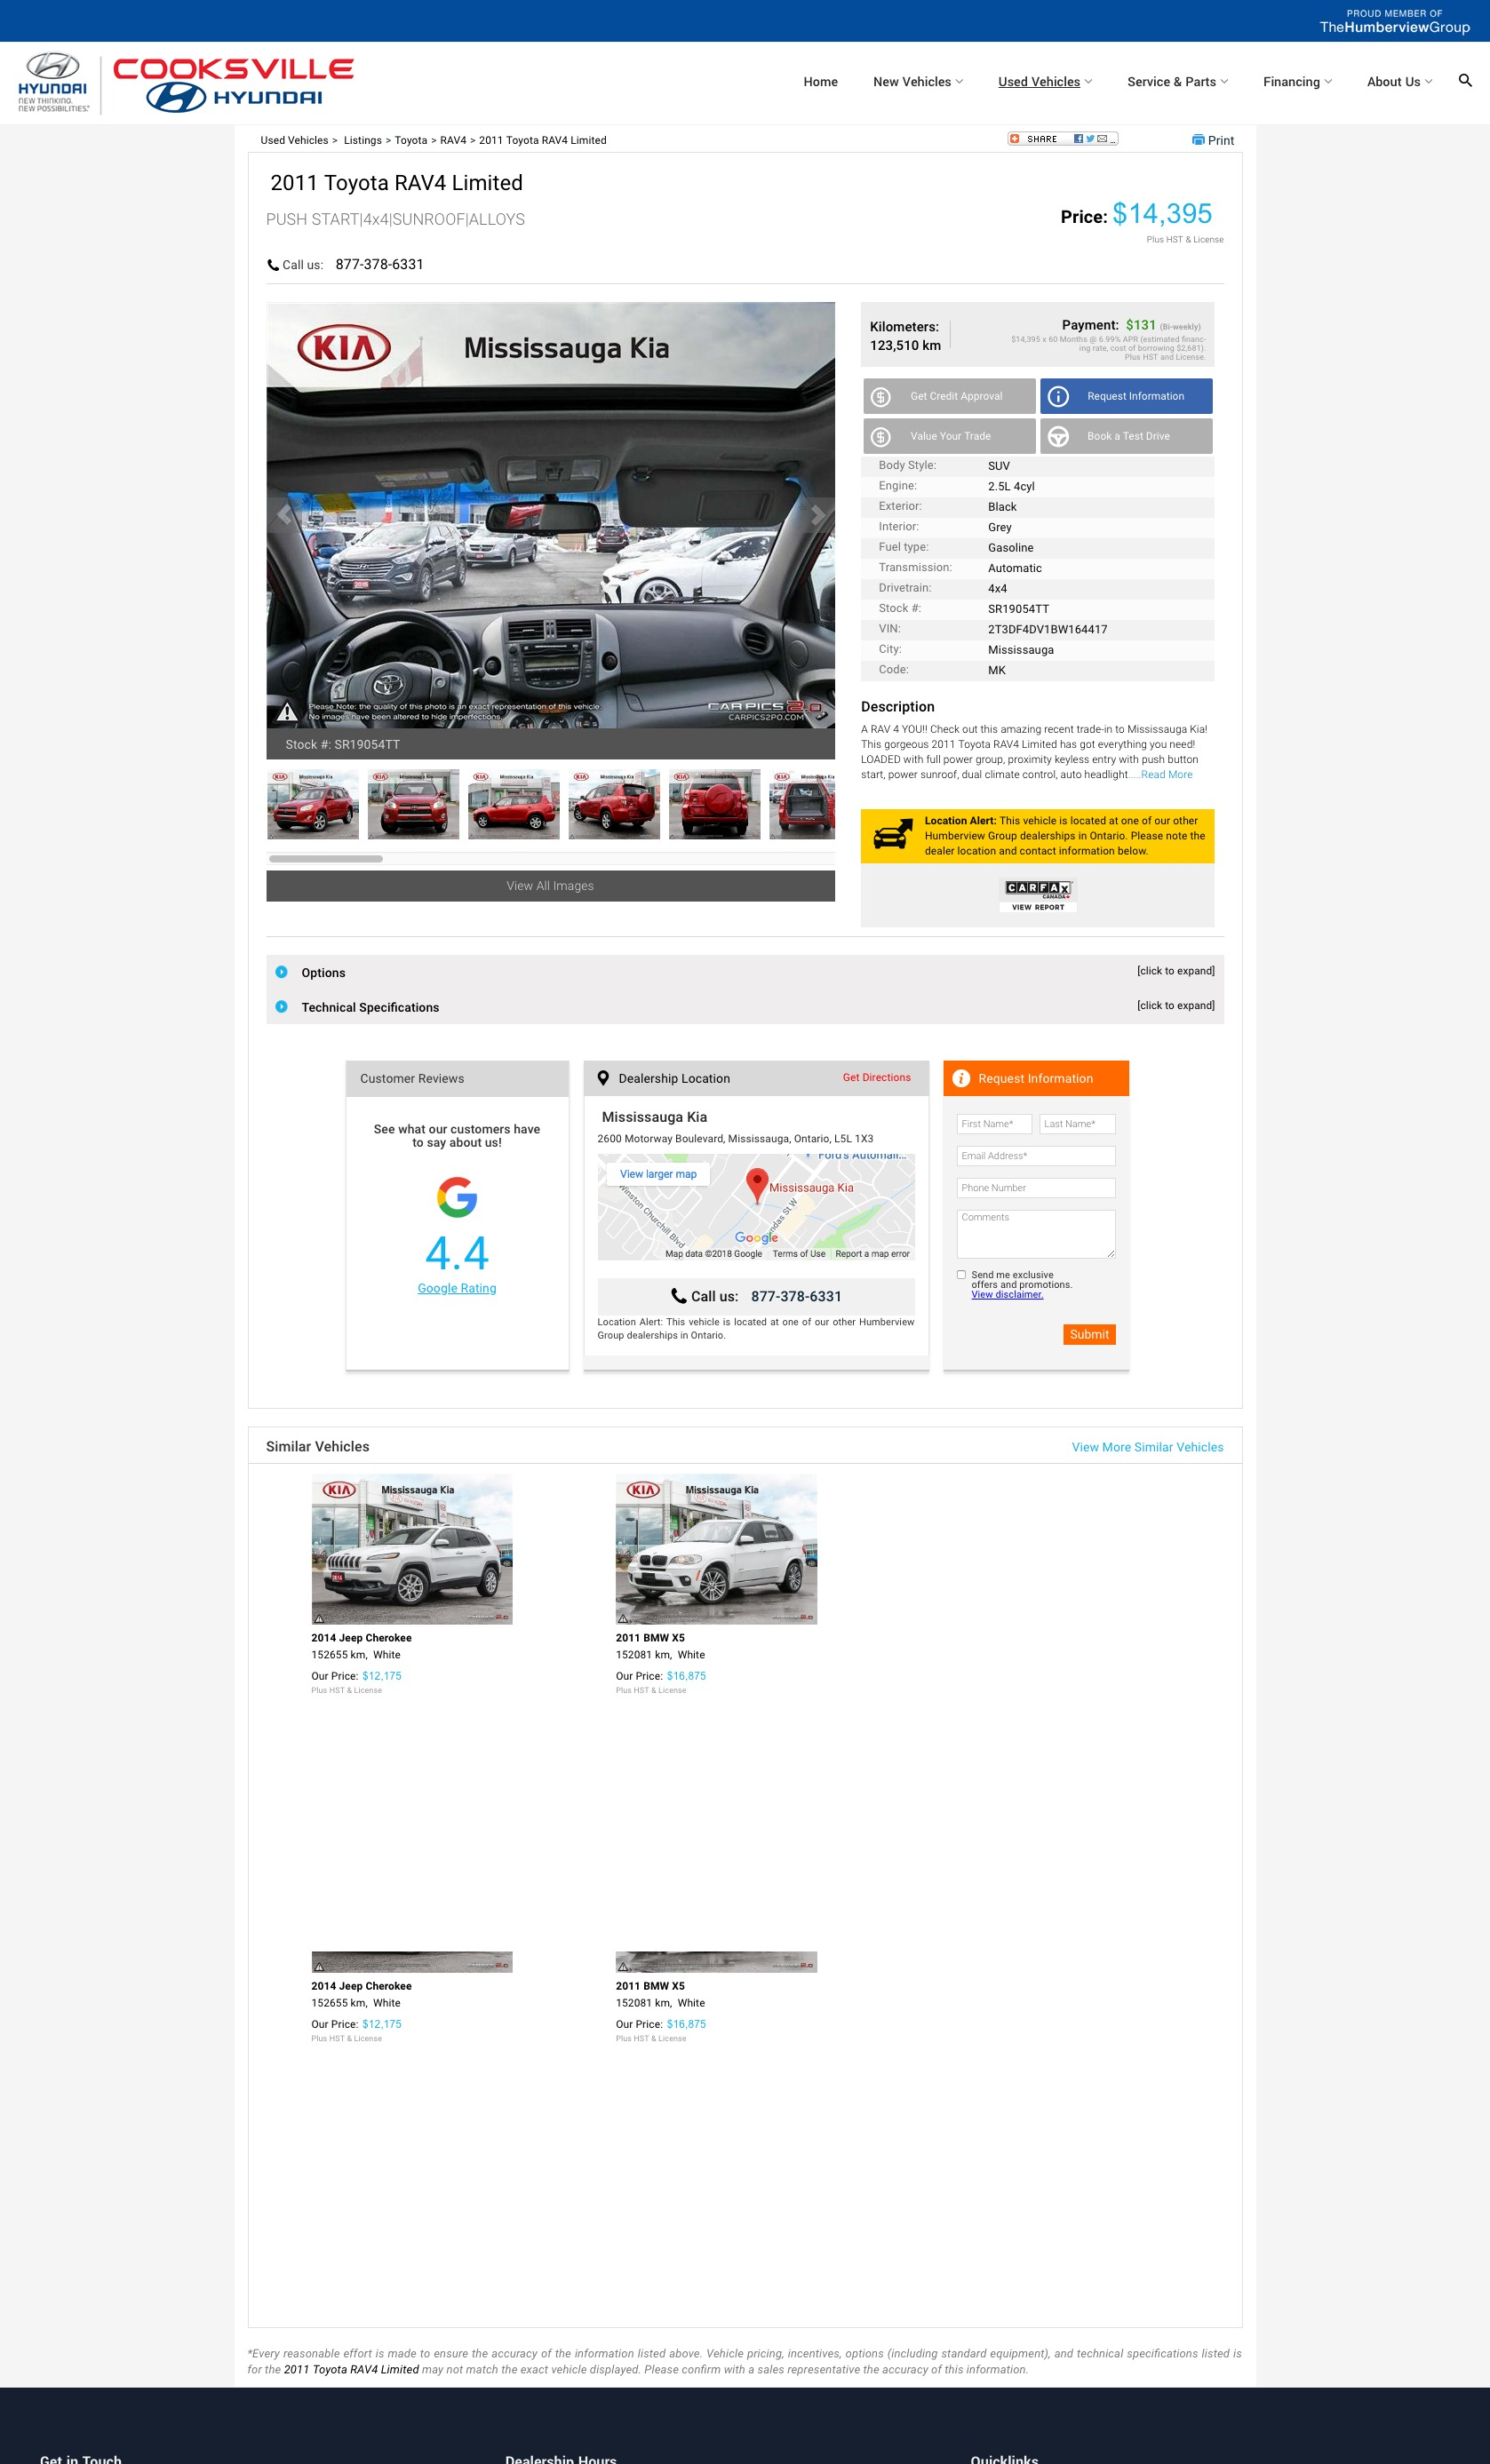car: (798, 496, 837, 535)
